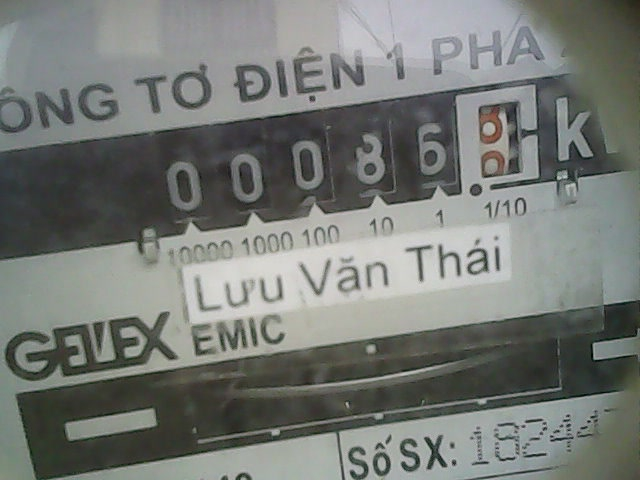phy_plate: (144, 83, 548, 224)
